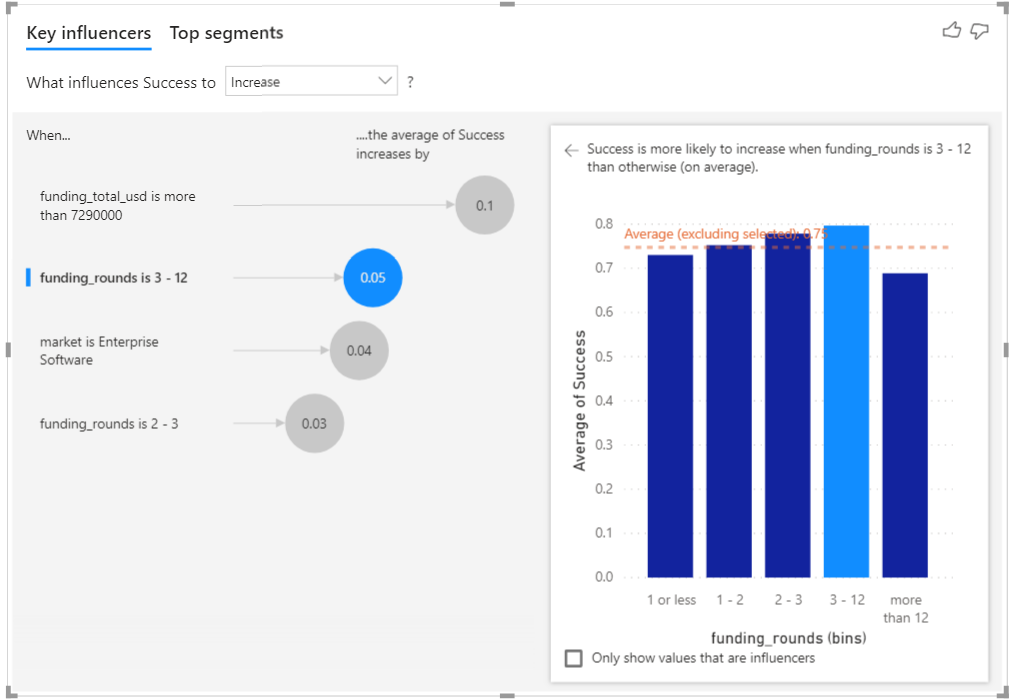

This screenshot's page, from the dashboard's own definition file:
{"tool":"powerbi","page":{"name":"Success Key Influencer","canvas":[1280,720],"ordinal":1},"visuals":[{"type":"keyDriversVisual","fields":{"ExplainBy":["Predicted_Probabilities_with_Status.market","Sum(Predicted_Probabilities_with_Status.funding_rounds)","Sum(Predicted_Probabilities_with_Status.funding_total_usd)"],"Target":["Predicted_Probabilities_with_Status.Success"]},"box":[20.6,68.7,880.3,609.8],"z":0}]}

Visuals, with their boxes on the page's 1280x720 design canvas (x1, y1, x2, y2). These are canvas units, not pixel positions in the 1014x700 screenshot, which may show the page scaled, cropped or inside an application window:
keyDriversVisual - Predicted_Probabilities_with_Status.market x Sum(Predicted_Probabilities_with_Status.funding_rounds): [x1=21, y1=69, x2=901, y2=678]
